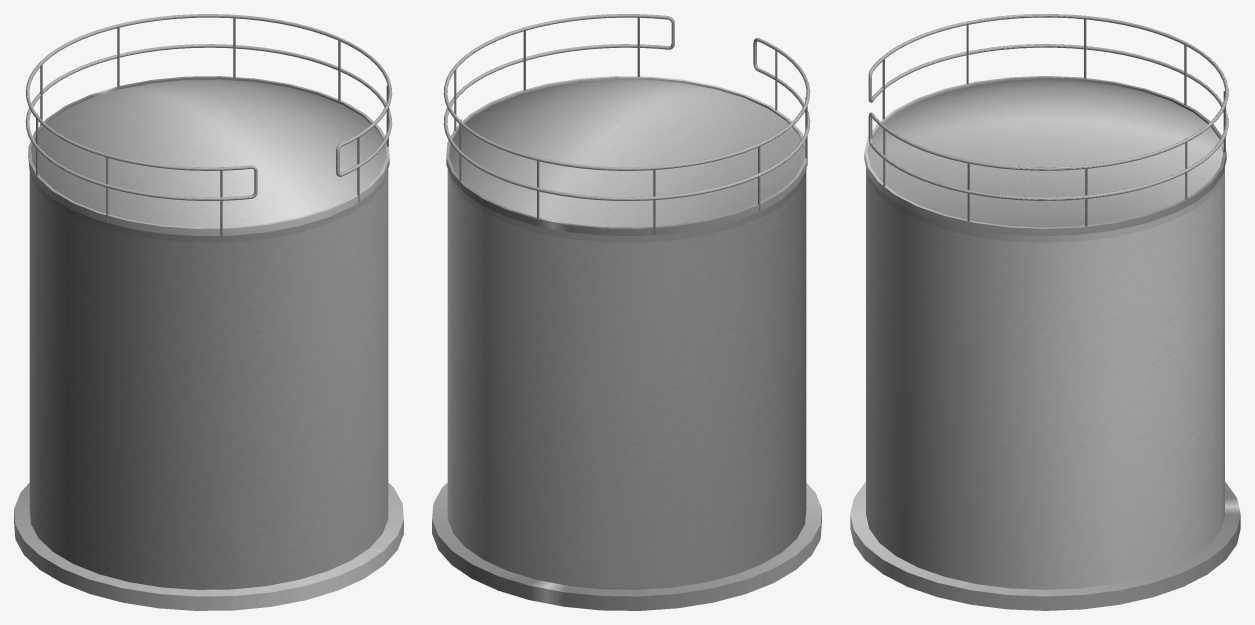
File: guanzi.fbx
The picture shows the model from 3 angles, left to right: view 1: azimuth 30°, elevation 25°; view 2: azimuth 150°, elevation 25°; view 3: azimuth 270°, elevation 25°; orthographic projection.
Visible parts, largest first — view 1: 对象001, Object6651, 对象002; view 2: 对象001, Object6651, 对象002; view 3: 对象001, Object6651, 对象002.
Part boxes in pixels (x1,y1,x2,y2): 对象001: [29, 169, 388, 589]; Object6651: [25, 14, 392, 235]; 对象002: [14, 483, 403, 610]; 对象001: [447, 169, 806, 589]; Object6651: [443, 14, 810, 235]; 对象002: [432, 483, 821, 610]; 对象001: [866, 167, 1224, 589]; Object6651: [864, 14, 1228, 236]; 对象002: [850, 482, 1240, 610].
Bounding box in the file's own units: 40.57 × 50.16 × 40.57.
Materials: 1 (1 with a texture image).
